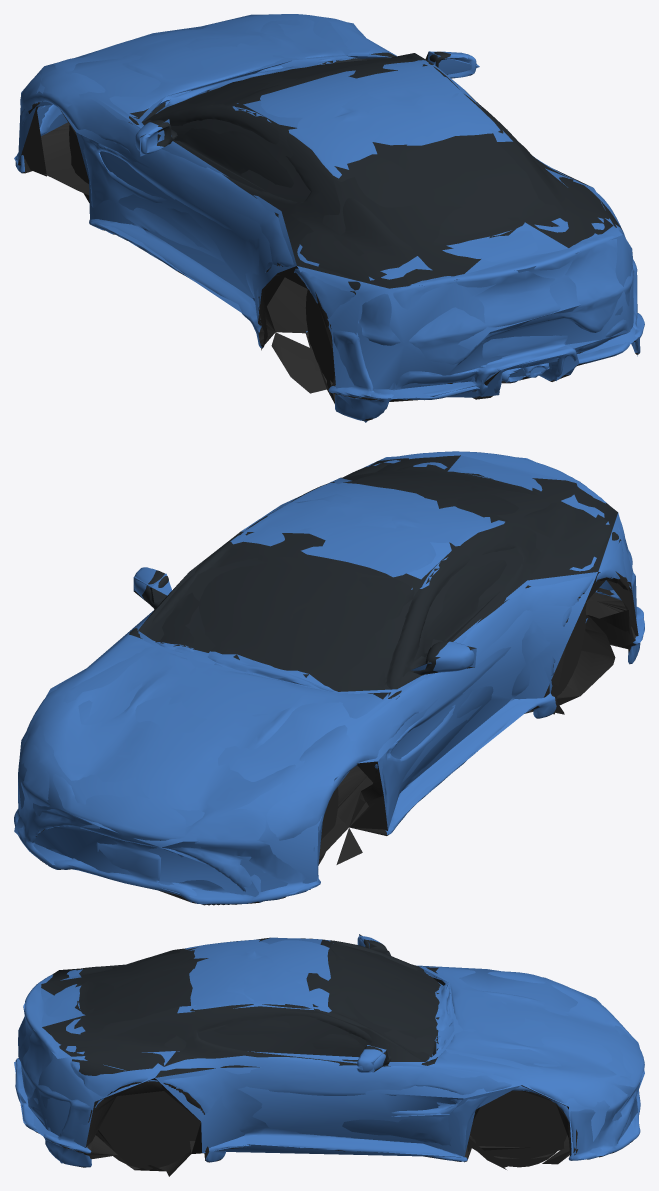
The model's file is aston-martin-vantage.glb.
The picture shows the model from 3 angles, top to bottom: view 1: azimuth 30°, elevation 25°; view 2: azimuth 150°, elevation 25°; view 3: azimuth 270°, elevation 25°; orthographic projection. The views are drawn at different scales.
Parts seen in each view (by area): view 1: body, far; view 2: body, far; view 3: body, far.
Part boxes in pixels (x1,y1,x2,y2): body: (15,14,644,420); far: (14,14,637,422); body: (14,451,644,905); far: (14,455,638,898); body: (15,936,644,1176); far: (14,934,644,1170).
Size of the model in its own units: 2.11 by 1.3 by 4.44.
